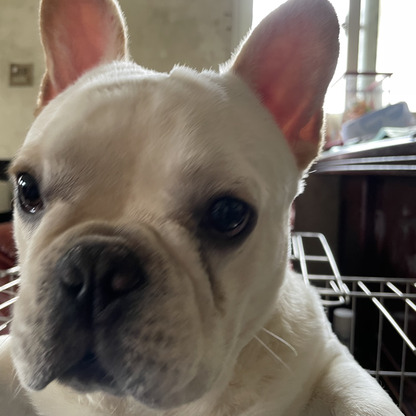bulldog: (5, 3, 403, 416)
